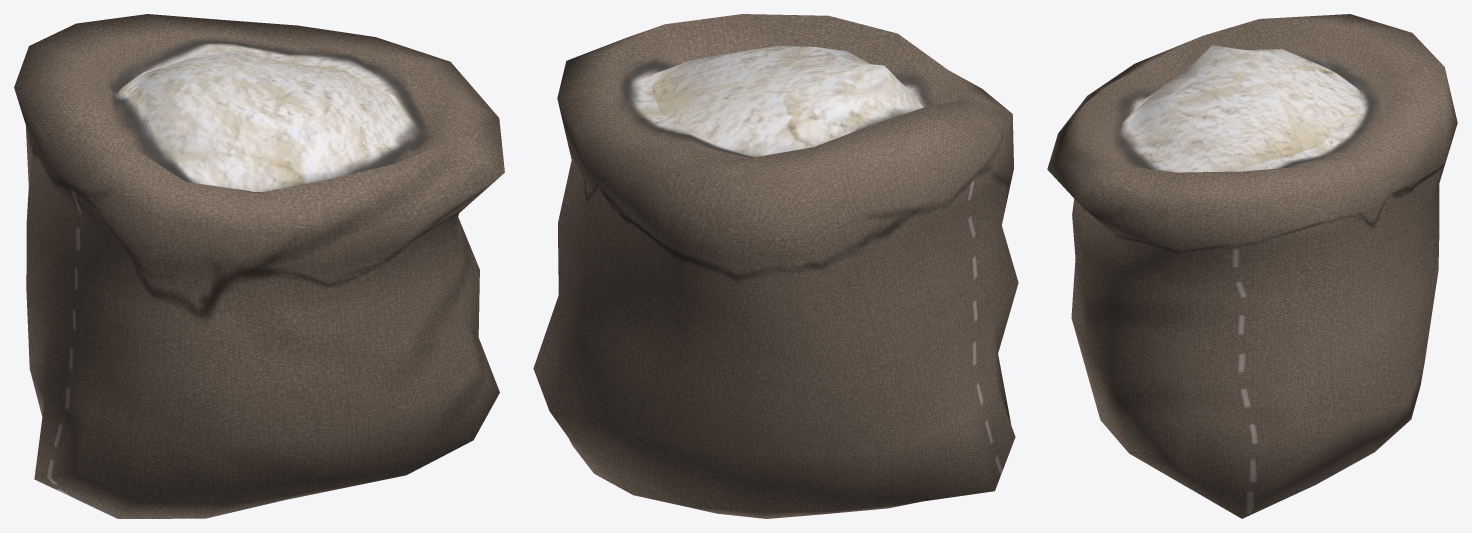
File: bag1.fbx
3 renders of one model, left to right at view 1: azimuth 30°, elevation 25°; view 2: azimuth 150°, elevation 25°; view 3: azimuth 270°, elevation 25°, orthographic. The views are drawn at different scales.
Visible parts, largest first — view 1: bag1; view 2: bag1; view 3: bag1.
Boxes of the visible parts, x1,y1,x2,y2 form: bag1: (14,14,504,518); bag1: (533,14,1018,518); bag1: (1047,14,1457,518).
Size of the model in its own units: 36.79 by 32.53 by 34.35.
